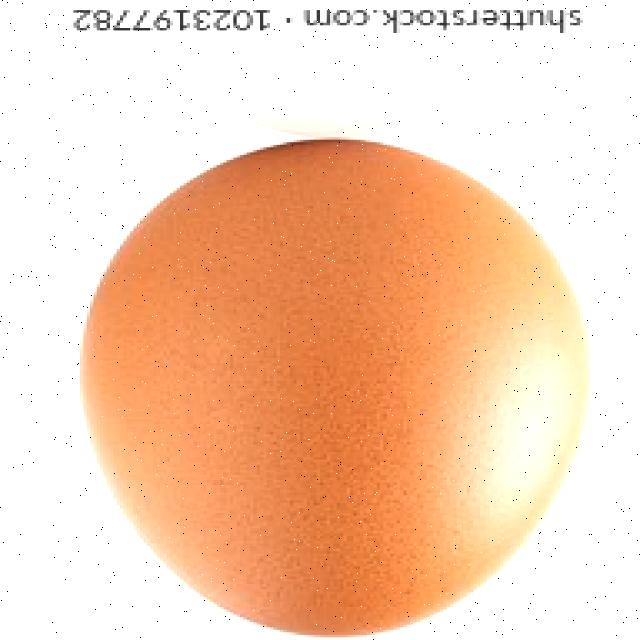Brown Egg: (63, 127, 610, 640)
